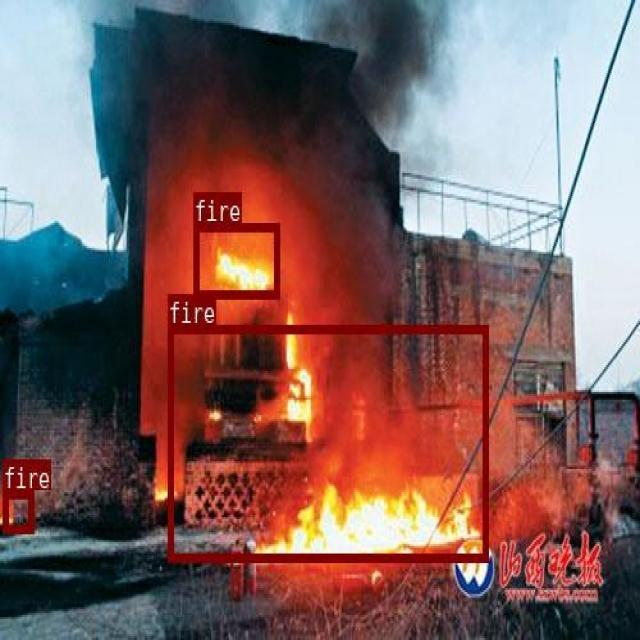fire: (167, 323, 487, 561), (193, 222, 279, 297), (2, 490, 33, 532)
